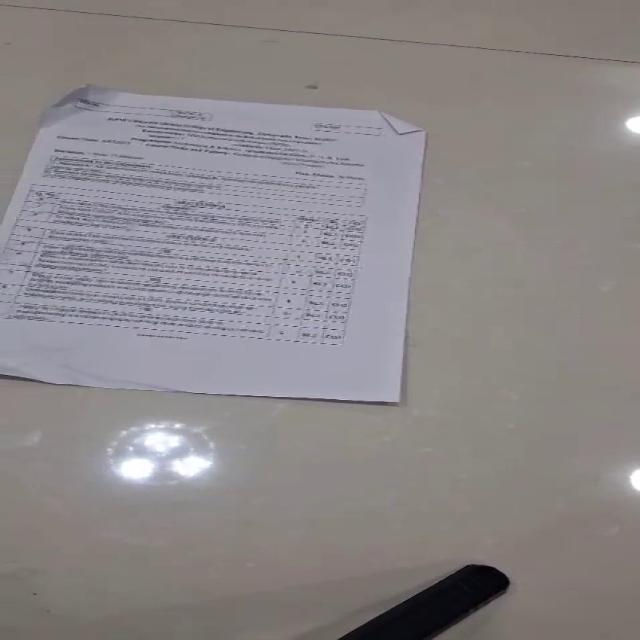paper: (0, 84, 427, 404)
